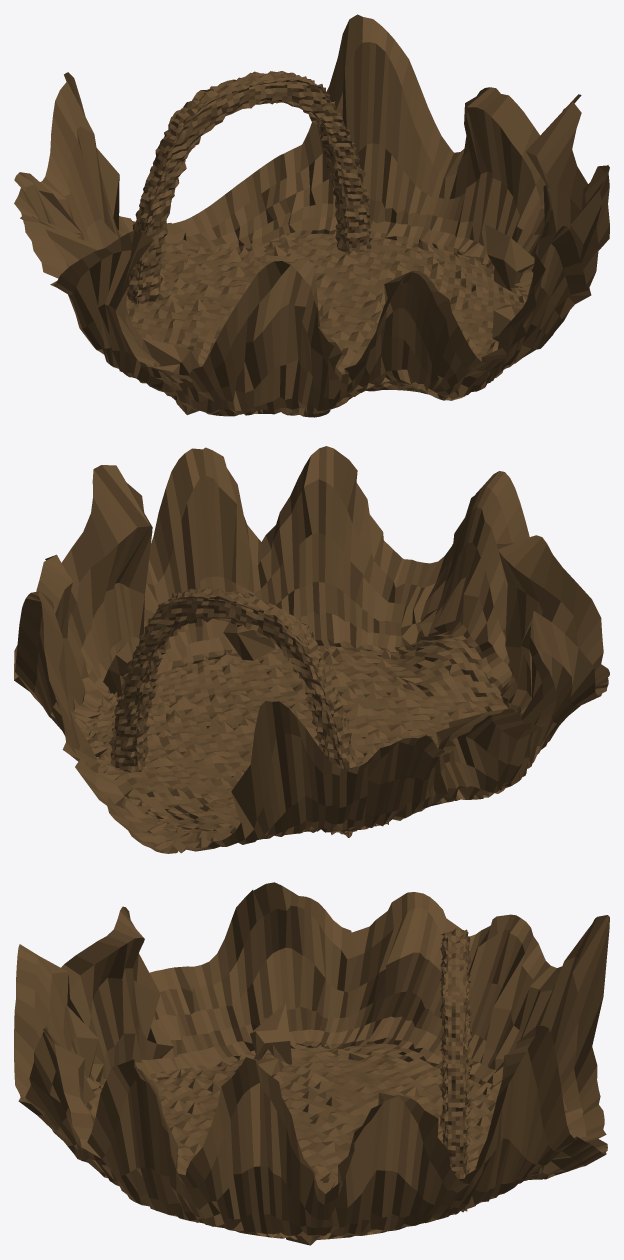
The model's file is rocks.fbx.
The picture shows the model from 3 angles, top to bottom: view 1: azimuth 30°, elevation 25°; view 2: azimuth 150°, elevation 25°; view 3: azimuth 270°, elevation 25°; orthographic projection.
Visible parts, largest first — view 1: Cube; view 2: Cube; view 3: Cube.
Boxes of the visible parts, x1,y1,x2,y2 form: Cube: (14, 14, 609, 417); Cube: (14, 446, 609, 853); Cube: (14, 882, 609, 1245).
Bounding box in the file's own units: 2006 × 859 × 2019.
